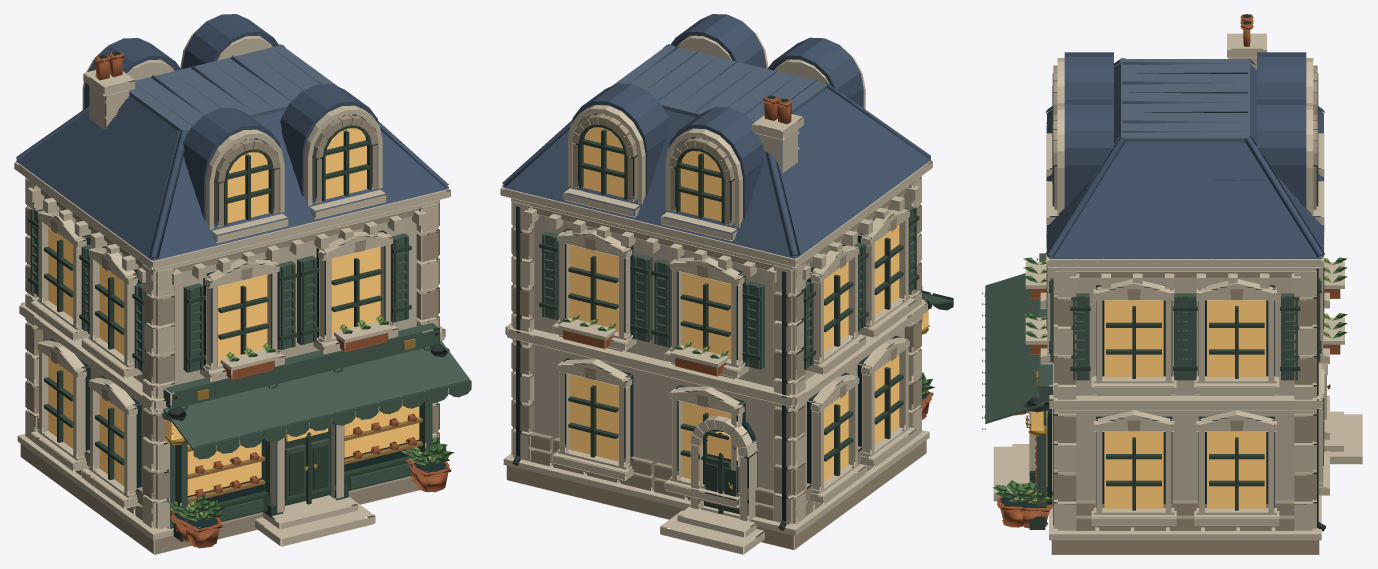
3 renders of one model, left to right at view 1: azimuth 30°, elevation 25°; view 2: azimuth 150°, elevation 25°; view 3: azimuth 270°, elevation 25°, orthographic.
Parts seen in each view (by area): view 1: classic_shop_2_geometry, classic_shop_2_geometry ceramic; view 2: classic_shop_2_geometry, classic_shop_2_geometry ceramic; view 3: classic_shop_2_geometry, classic_shop_2_geometry ceramic.
Boxes of the visible parts, box(x1,y1,x2,y2) form: classic_shop_2_geometry: box(14, 23, 471, 554); classic_shop_2_geometry ceramic: box(16, 14, 448, 260); classic_shop_2_geometry: box(500, 23, 953, 554); classic_shop_2_geometry ceramic: box(502, 14, 930, 258); classic_shop_2_geometry: box(982, 14, 1362, 554); classic_shop_2_geometry ceramic: box(1045, 52, 1325, 258).
Size of the model in its own units: 0.9057 by 1.16 by 0.957.
